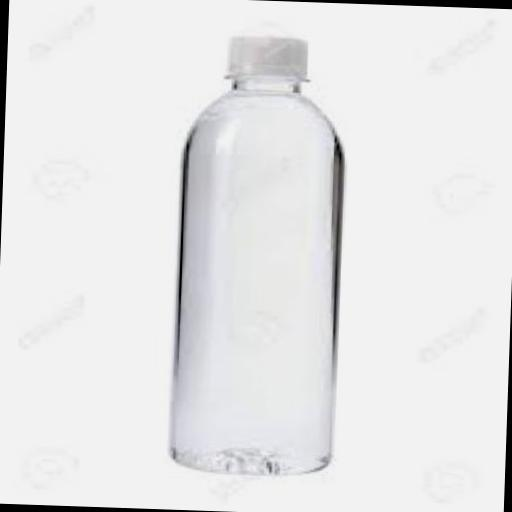plastic: (166, 31, 346, 474), (220, 31, 306, 81)
